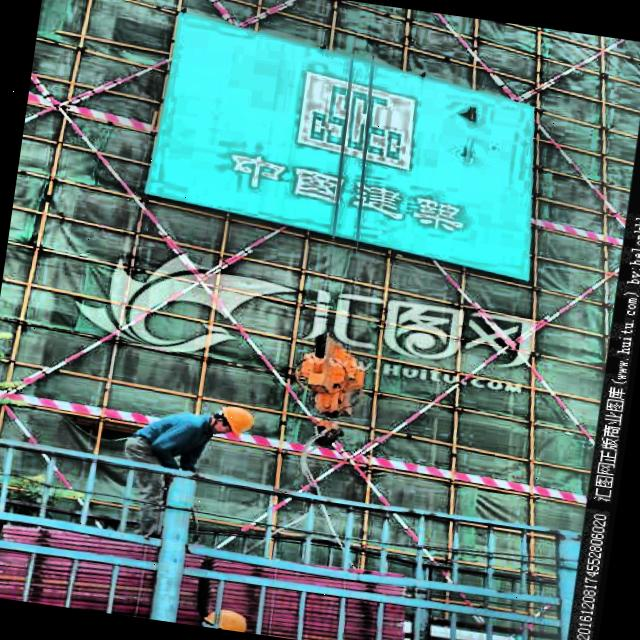helmet: (210, 400, 262, 442)
